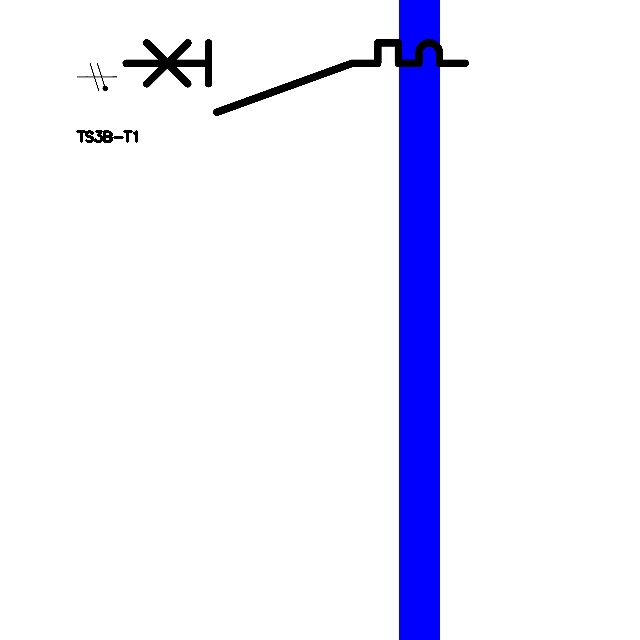interruptor_termomagnetico: (117, 34, 474, 121)
